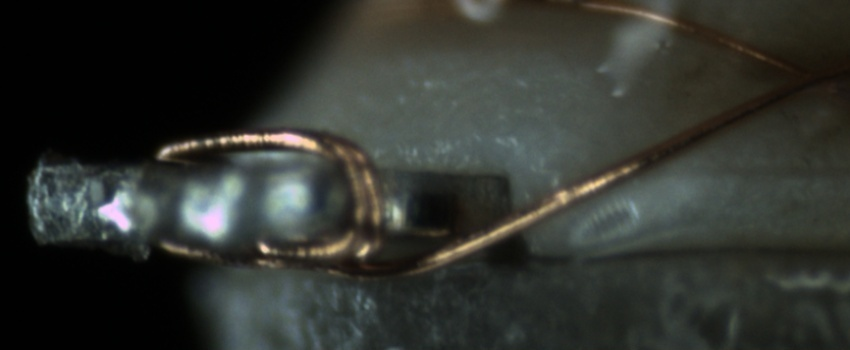CL: (757, 50, 838, 102)
DL: (641, 143, 847, 198)
TE: (158, 102, 378, 264)
